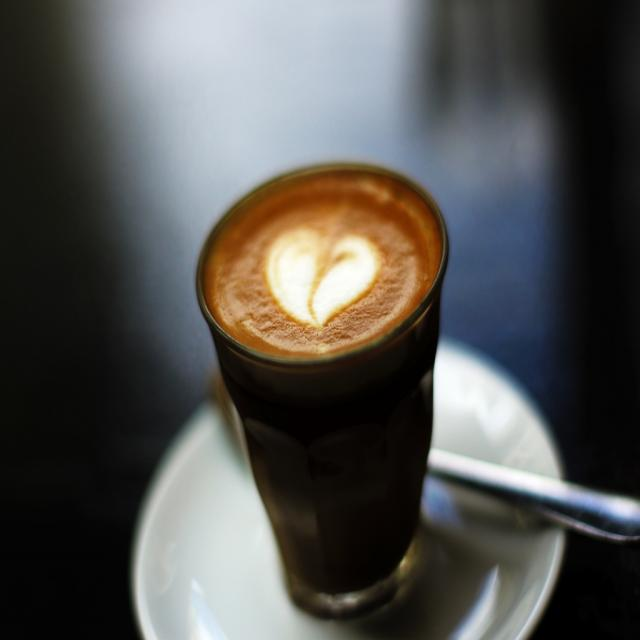Coffee: (193, 156, 442, 640)
